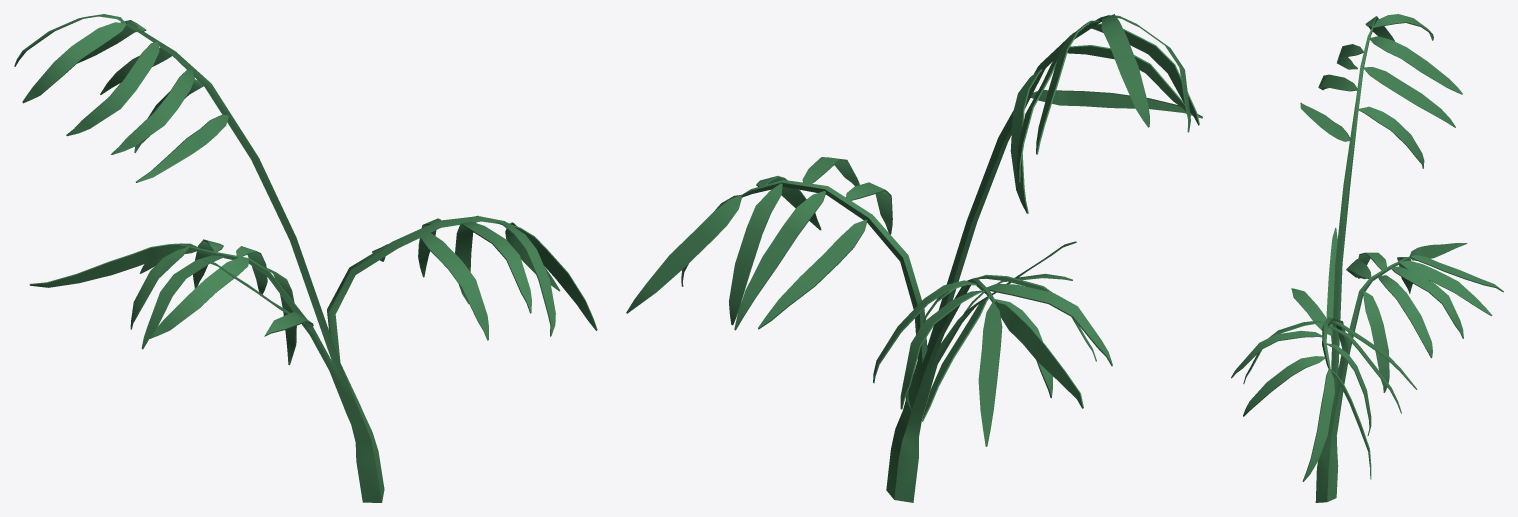
File: tropical_small04_fern.fbx
The picture shows the model from 3 angles, left to right: view 1: azimuth 30°, elevation 25°; view 2: azimuth 150°, elevation 25°; view 3: azimuth 270°, elevation 25°; orthographic projection. The views are drawn at different scales.
Parts seen in each view (by area): view 1: tropical_small04_fern; view 2: tropical_small04_fern; view 3: tropical_small04_fern.
Boxes of the visible parts, x1,y1,x2,y2 form: tropical_small04_fern: (14,14,597,502); tropical_small04_fern: (626,14,1202,502); tropical_small04_fern: (1231,14,1503,502).
Bounding box in the file's own units: 0.9845 × 0.9279 × 0.5761.
